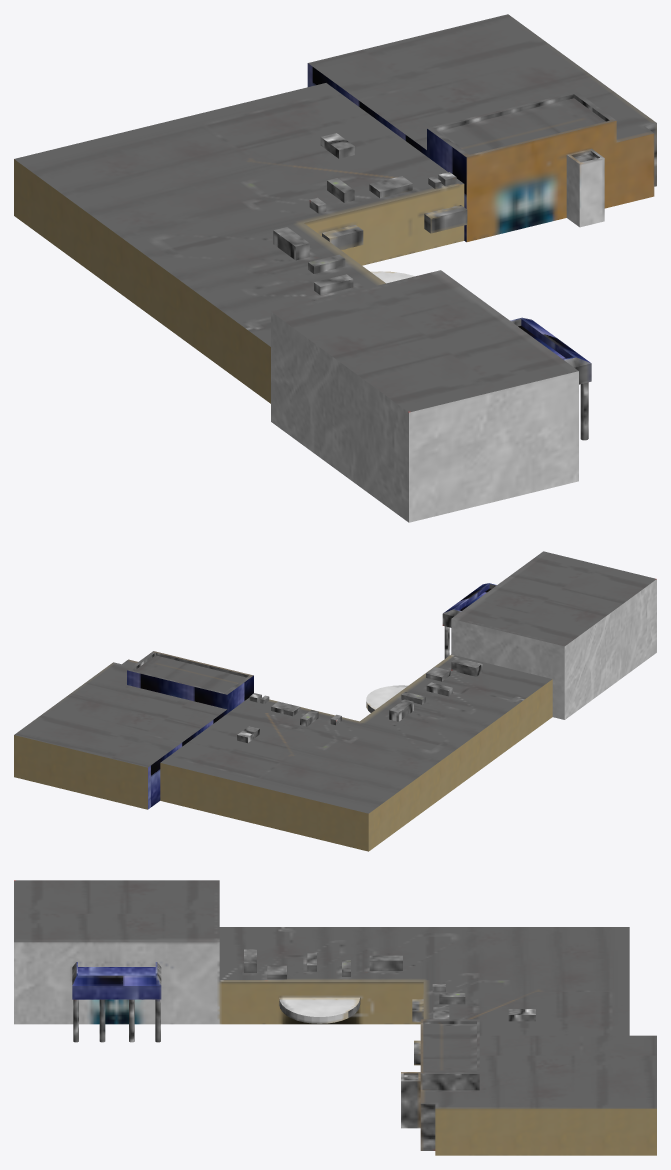
File: mall.obj
3 renders of one model, top to bottom at view 1: azimuth 30°, elevation 25°; view 2: azimuth 150°, elevation 25°; view 3: azimuth 270°, elevation 25°, orthographic. The views are drawn at different scales.
Parts seen in each view (by area): view 1: mall; view 2: mall; view 3: mall.
Part boxes in pixels (x1,y1,x2,y2): mall: [14, 14, 656, 522]; mall: [14, 551, 656, 851]; mall: [14, 880, 656, 1155].
Size of the model in its own units: 156 by 30.91 by 219.
1 material, 1 textured.
